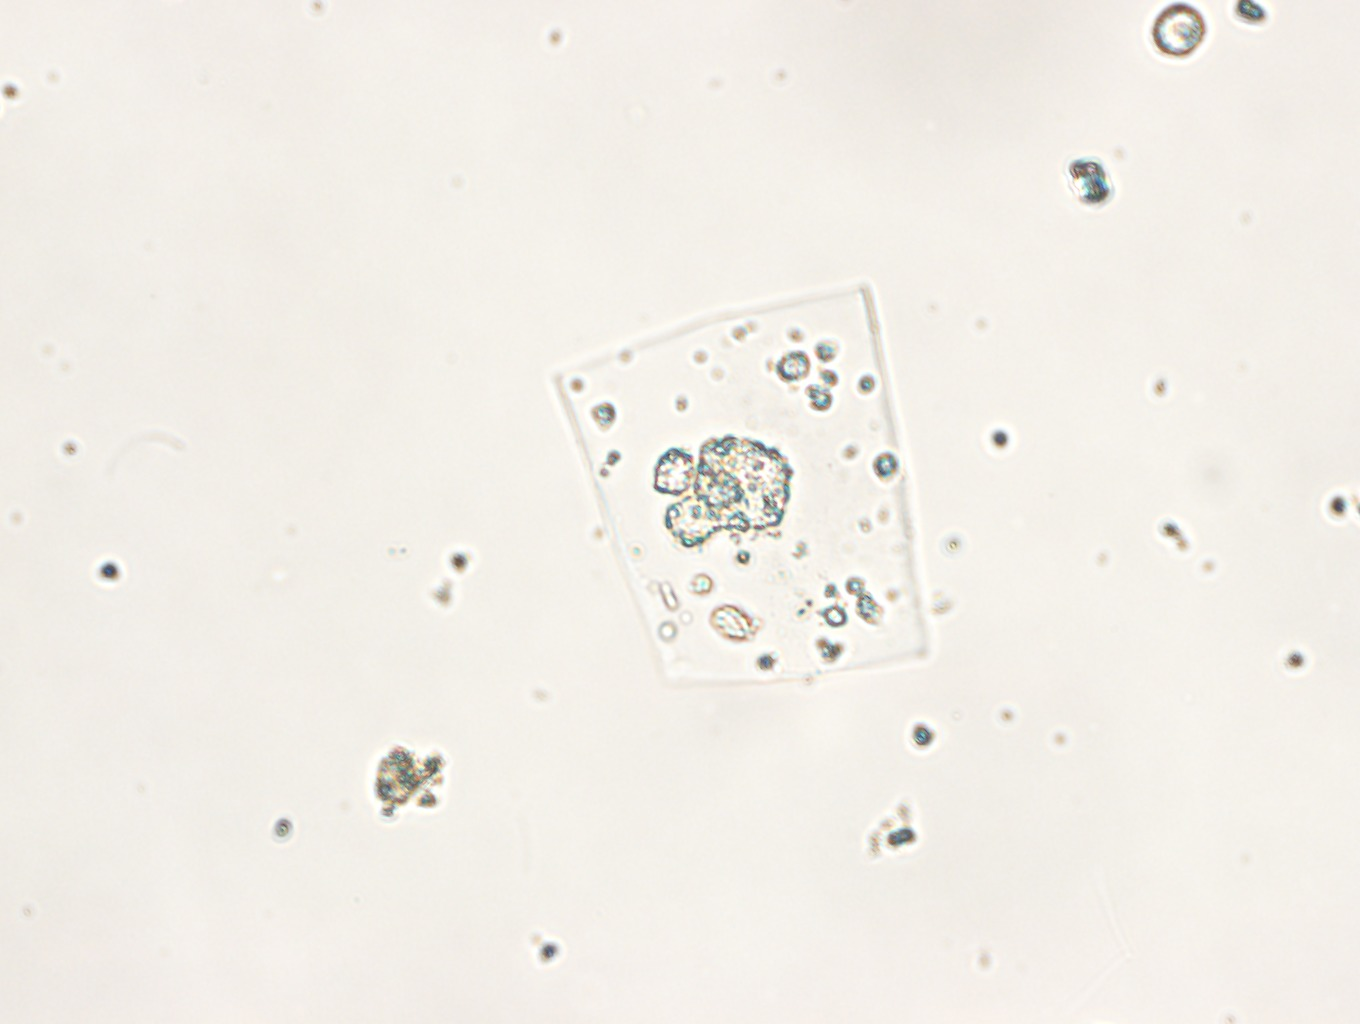helicotheca: (550, 282, 929, 692)
